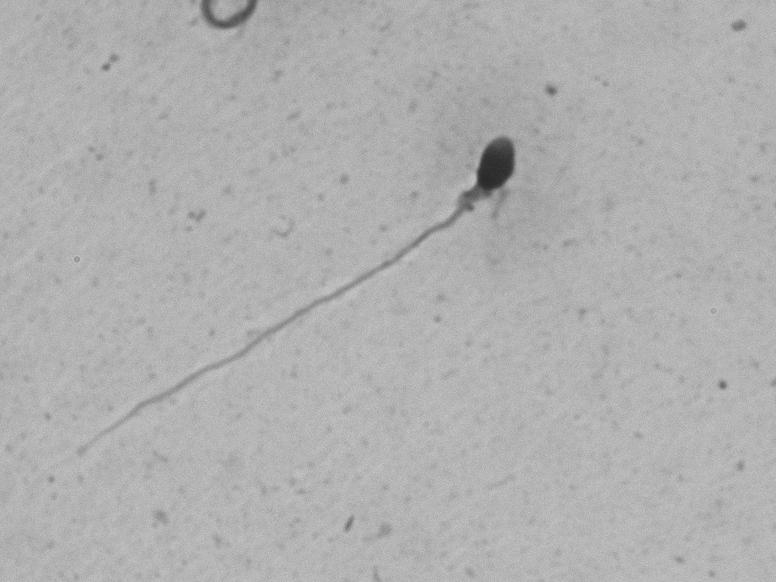Abnormal: (38, 106, 611, 477)
